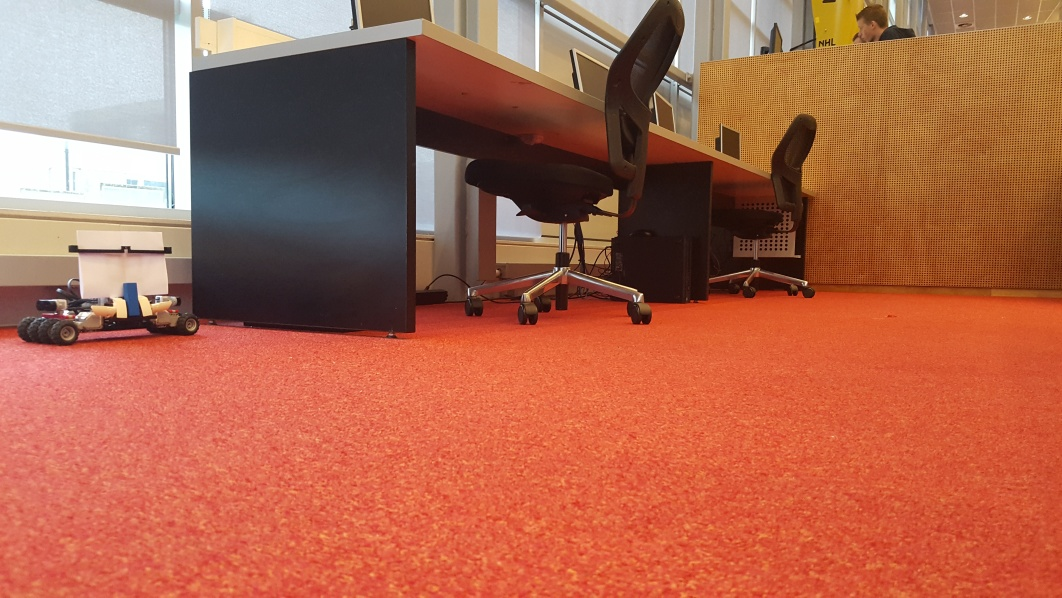car: (19, 228, 202, 343)
